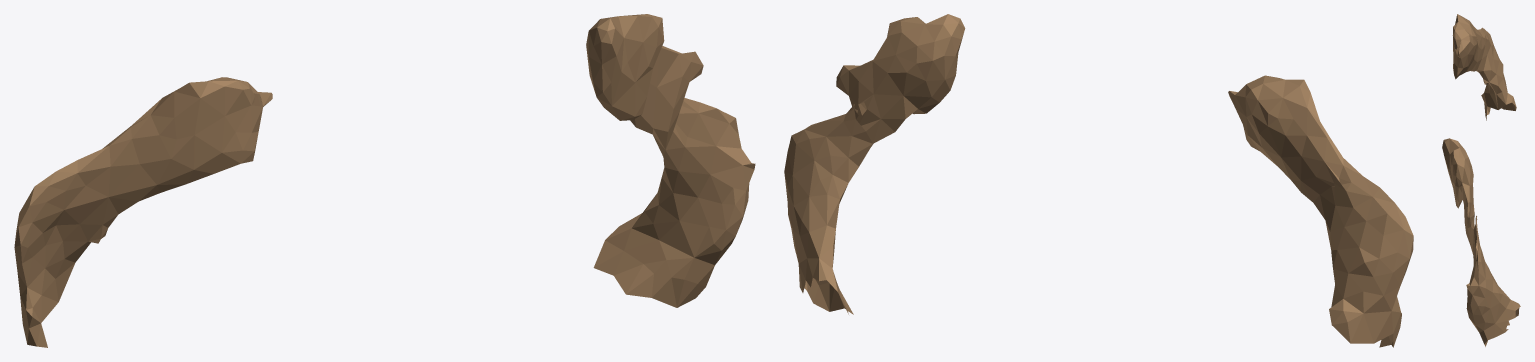
The model's file is lateral_ventricles_TH.obj.
The picture shows the model from 3 angles, left to right: view 1: azimuth 30°, elevation 25°; view 2: azimuth 150°, elevation 25°; view 3: azimuth 270°, elevation 25°; orthographic projection. The views are drawn at different scales.
Visible parts, largest first — view 1: Lateral_Ventricles_TH_lateral_ventricle.002; view 2: Lateral_Ventricles_TH_lateral_ventricle.002; view 3: Lateral_Ventricles_TH_lateral_ventricle.002.
Boxes of the visible parts, <box> form: Lateral_Ventricles_TH_lateral_ventricle.002: <box>14,14,755,347</box>; Lateral_Ventricles_TH_lateral_ventricle.002: <box>784,14,1413,347</box>; Lateral_Ventricles_TH_lateral_ventricle.002: <box>1442,14,1520,346</box>.
Bounding box in the file's own units: 186 × 91.43 × 32.96.
